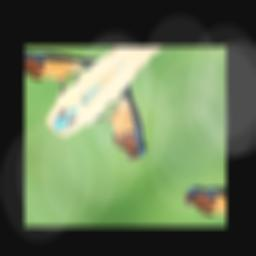Swallow: (83, 82, 178, 165)
